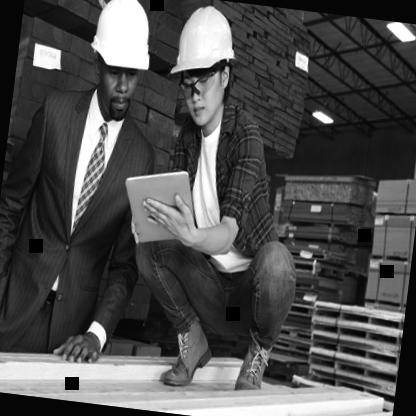helmet: (166, 0, 252, 156), (75, 0, 160, 130)
